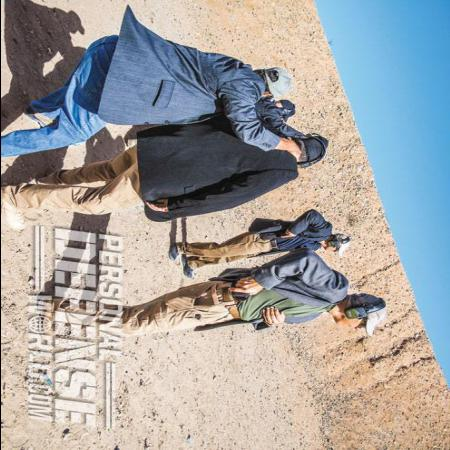Pistol: (226, 277, 252, 300), (275, 228, 297, 240)
